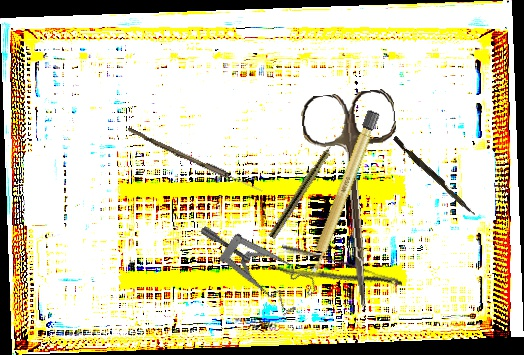Dressing Forceps: (274, 242, 404, 307)
Handpiece: (267, 131, 344, 241)
Iris Scissors: (299, 88, 415, 311)
Pusher: (390, 135, 479, 217)
Scalpel Handle: (304, 107, 381, 279)
Speculum: (198, 192, 323, 331)
Surgical Spoon: (125, 127, 265, 194)
